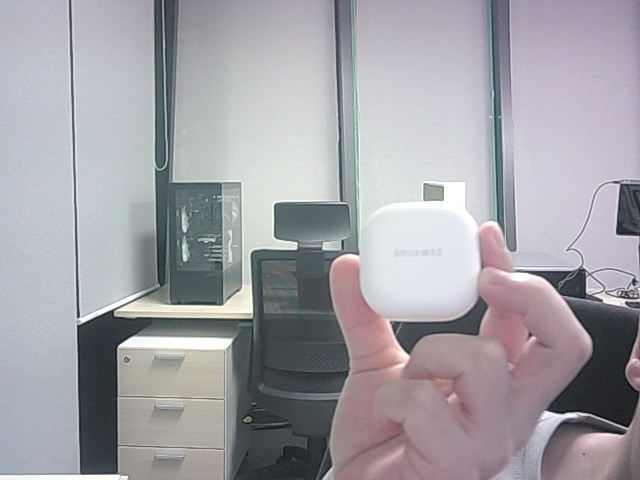case: (360, 202, 481, 321)
